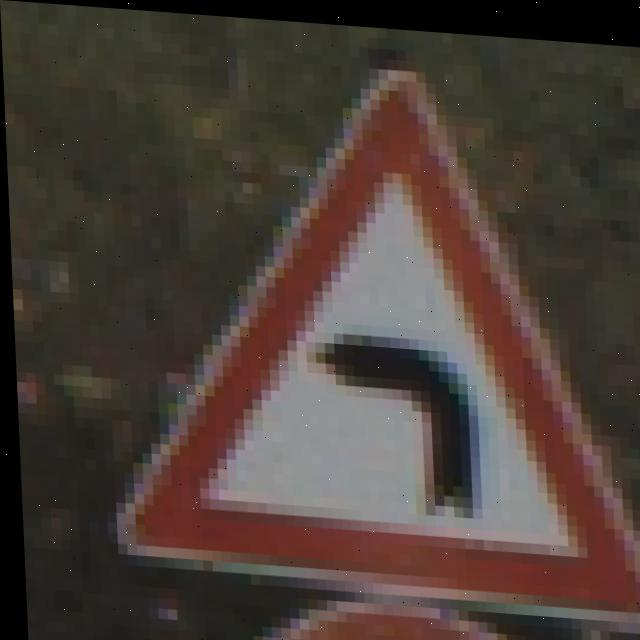left_turn: (139, 69, 614, 617)
